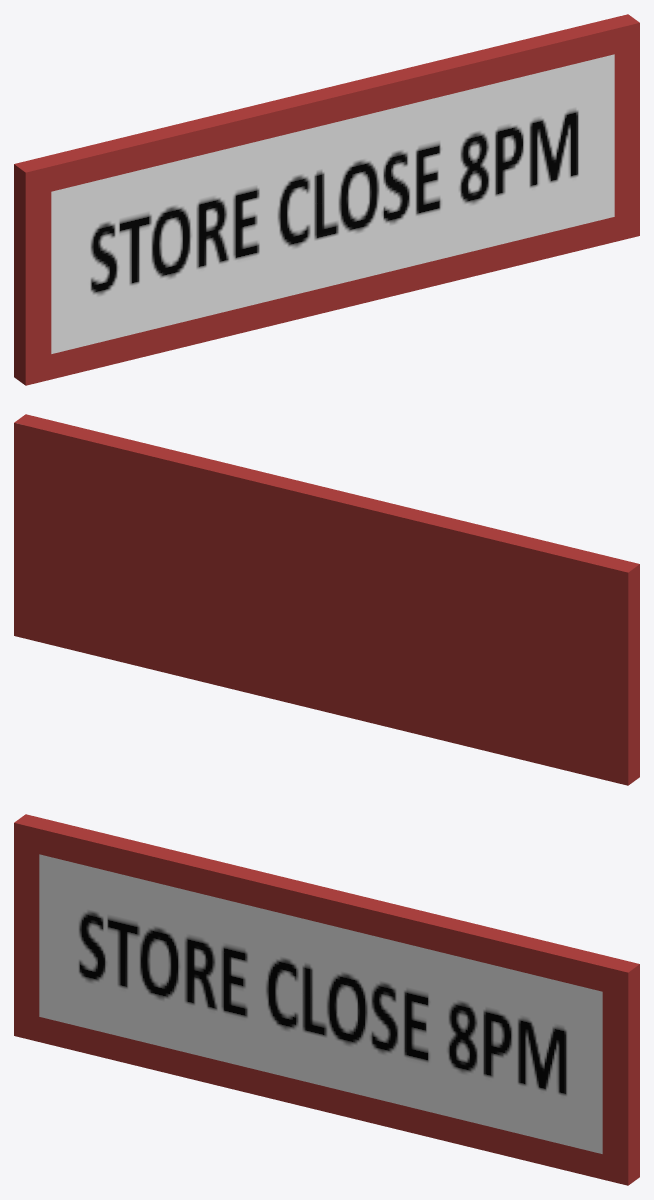
File: closingtimesign.glb
3 renders of one model, top to bottom at view 1: azimuth 30°, elevation 25°; view 2: azimuth 150°, elevation 25°; view 3: azimuth 330°, elevation 25°, orthographic.
Parts seen in each view (by area): view 1: Cube; view 2: Cube; view 3: Cube.
Part boxes in pixels (x1,y1,x2,y2): Cube: (14, 14, 639, 385); Cube: (14, 414, 639, 785); Cube: (14, 814, 639, 1185).
Size of the model in its own units: 0.6333 by 0.21 by 0.021.
Materials: 1 (1 with a texture image).
